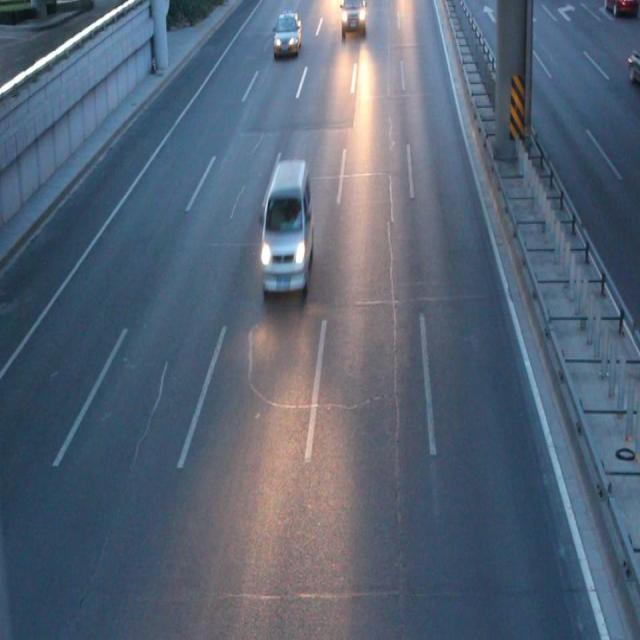car: (274, 11, 301, 54), (342, 2, 365, 34), (626, 48, 640, 79)
truck: (260, 162, 314, 291)
